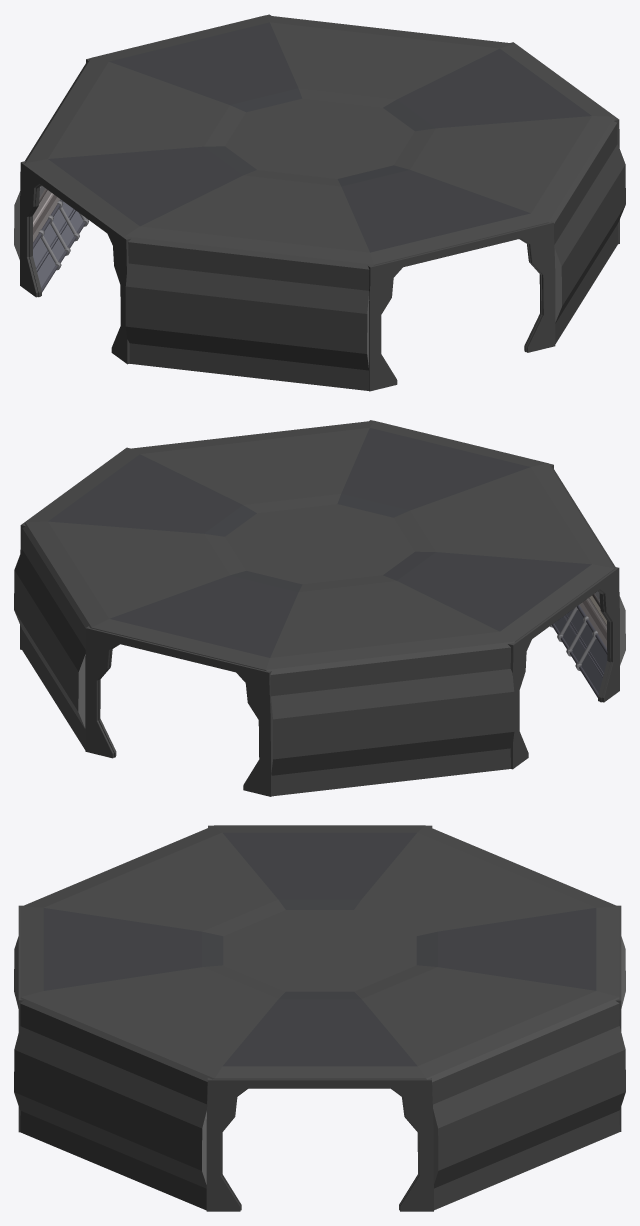
File: Hallway_Big_Module_01.glb
3 views of the same model, one above another, from view 1: azimuth 30°, elevation 25°; view 2: azimuth 150°, elevation 25°; view 3: azimuth 270°, elevation 25° (orthographic). The views are drawn at different scales.
Visible parts, largest first — view 1: Hallway_Big_Module_01; view 2: Hallway_Big_Module_01; view 3: Hallway_Big_Module_01.
Part boxes in pixels (box(x1,y1,x2,y2)): Hallway_Big_Module_01: box(14, 14, 625, 391); Hallway_Big_Module_01: box(14, 420, 625, 796); Hallway_Big_Module_01: box(14, 825, 625, 1211).
Size of what is drawn, in the model's own units: 16.24 by 3.97 by 16.24.
1 material, 1 textured.
